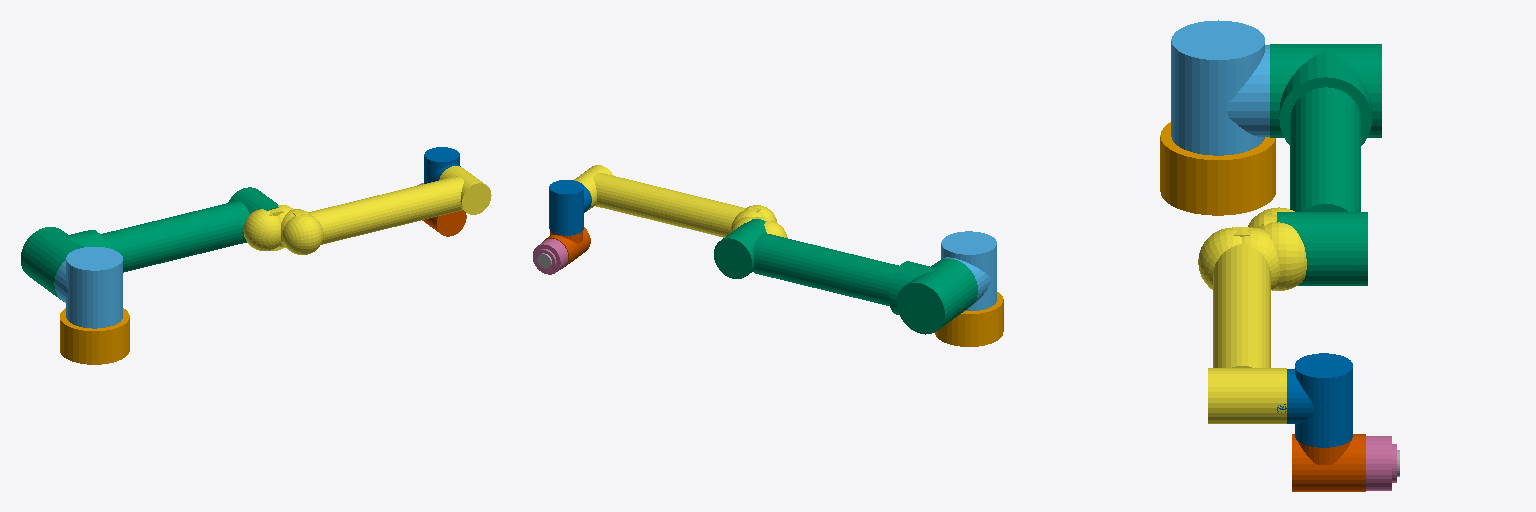
The robot description file, URDF, robot "UR10e(1)":
<?xml version="1.0"?>
<robot name="UR10e(1)" xmlns:xacro="http://ros.org/wiki/xacro">
  <link name="base_link">
    <visual>
      <origin xyz="0 0 0.05" rpy="-3.141592 0 0"/>
      <geometry>
        <cylinder radius="0.095" length="0.1"/>
      </geometry>
    </visual>
    <collision>
      <origin xyz="0 0 0.05" rpy="-3.141592 0 0"/>
      <geometry>
        <cylinder radius="0.095" length="0.1"/>
      </geometry>
    </collision>
  </link>
  <joint name="shoulder_pan_joint" type="revolute">
    <parent link="base_link"/>
    <child link="shoulder_link"/>
    <axis xyz="0 0 1"/>
    <limit effort="330" lower="-6.28319" upper="6.28319" velocity="3.14"/>
    <origin xyz="0 0 0.181" rpy="0 0 0"/>
  </joint>
  <link name="shoulder_link">
    <visual>
      <origin xyz="0 0 0" rpy="-3.141592 0 0"/>
      <geometry>
        <cylinder radius="0.077" length="0.183"/>
      </geometry>
    </visual>
    <collision>
      <origin xyz="0 0 0" rpy="-3.141592 0 0"/>
      <geometry>
        <cylinder radius="0.077" length="0.183"/>
      </geometry>
    </collision>
    <visual>
      <origin xyz="0 0.05 0" rpy="1.570797 0 0"/>
      <geometry>
        <cylinder radius="0.076" length="0.093"/>
      </geometry>
    </visual>
    <collision>
      <origin xyz="0 0.05 0" rpy="1.570797 0 0"/>
      <geometry>
        <cylinder radius="0.076" length="0.093"/>
      </geometry>
    </collision>
  </link>
  <joint name="shoulder_lift_joint" type="revolute">
    <parent link="shoulder_link"/>
    <child link="upper_arm_link"/>
    <axis xyz="0 1 0"/>
    <limit effort="330" lower="-6.28319" upper="6.28319" velocity="3.14"/>
    <origin xyz="0 0.176 0" rpy="0 1.570796 0"/>
  </joint>
  <link name="upper_arm_link">
    <visual>
      <origin xyz="0 0 0.33" rpy="-3.141592 0 0"/>
      <geometry>
        <cylinder radius="0.058" length="0.463"/>
      </geometry>
    </visual>
    <collision>
      <origin xyz="0 0 0.33" rpy="-3.141592 0 0"/>
      <geometry>
        <cylinder radius="0.058" length="0.463"/>
      </geometry>
    </collision>
    <visual>
      <origin xyz="0 0 0.06" rpy="-3.141592 0 0"/>
      <geometry>
        <cylinder radius="0.076" length="0.1"/>
      </geometry>
    </visual>
    <collision>
      <origin xyz="0 0 0.06" rpy="-3.141592 0 0"/>
      <geometry>
        <cylinder radius="0.076" length="0.1"/>
      </geometry>
    </collision>
    <visual>
      <origin xyz="0 0 0" rpy="-1.570796 0 0"/>
      <geometry>
        <cylinder radius="0.077" length="0.183"/>
      </geometry>
    </visual>
    <collision>
      <origin xyz="0 0 0" rpy="-1.570796 0 0"/>
      <geometry>
        <cylinder radius="0.077" length="0.183"/>
      </geometry>
    </collision>
    <visual>
      <origin xyz="0 -0.005 0.612" rpy="-1.570796 0 0"/>
      <geometry>
        <cylinder radius="0.061" length="0.149"/>
      </geometry>
    </visual>
    <collision>
      <origin xyz="0 -0.005 0.612" rpy="-1.570796 0 0"/>
      <geometry>
        <cylinder radius="0.061" length="0.149"/>
      </geometry>
    </collision>
  </link>
  <joint name="elbow_joint" type="revolute">
    <parent link="upper_arm_link"/>
    <child link="forearm_link"/>
    <axis xyz="0 1 0"/>
    <limit effort="150" lower="-3.14159" upper="3.14159" velocity="3.14"/>
    <origin xyz="0 -0.137 0.613" rpy="0 0 0"/>
  </joint>
  <link name="forearm_link">
    <visual>
      <origin xyz="0 0 0.307" rpy="-3.141592 0 0"/>
      <geometry>
        <cylinder radius="0.047" length="0.49"/>
      </geometry>
    </visual>
    <collision>
      <origin xyz="0 0 0.307" rpy="-3.141592 0 0"/>
      <geometry>
        <cylinder radius="0.047" length="0.49"/>
      </geometry>
    </collision>
    <visual>
      <origin xyz="0 0.009 0.57" rpy="-1.570796 0 0"/>
      <geometry>
        <cylinder radius="0.046" length="0.129"/>
      </geometry>
    </visual>
    <collision>
      <origin xyz="0 0.009 0.57" rpy="-1.570796 0 0"/>
      <geometry>
        <cylinder radius="0.046" length="0.129"/>
      </geometry>
    </collision>
    <visual>
      <origin xyz="0 0.06 0" rpy="-1.570796 0 0"/>
      <geometry>
        <cylinder radius="0.058" length="0.05"/>
      </geometry>
    </visual>
    <collision>
      <origin xyz="0 0.06 0" rpy="-1.570796 0 0"/>
      <geometry>
        <cylinder radius="0.058" length="0.05"/>
      </geometry>
    </collision>
    <visual>
      <origin xyz="0 0.06 -0.025" rpy="-1.570796 0 0"/>
      <geometry>
        <sphere radius="0.058"/>
      </geometry>
    </visual>
    <collision>
      <origin xyz="0 0.06 -0.025" rpy="-1.570796 0 0"/>
      <geometry>
        <sphere radius="0.058"/>
      </geometry>
    </collision>
    <visual>
      <origin xyz="0 0.06 0.025" rpy="-1.570796 0 0"/>
      <geometry>
        <sphere radius="0.058"/>
      </geometry>
    </visual>
    <collision>
      <origin xyz="0 0.06 0.025" rpy="-1.570796 0 0"/>
      <geometry>
        <sphere radius="0.058"/>
      </geometry>
    </collision>
    <visual>
      <origin xyz="0 0 0.05" rpy="0 0 0"/>
      <geometry>
        <cylinder radius="0.057" length="0.03"/>
      </geometry>
    </visual>
    <collision>
      <origin xyz="0 0 0.05" rpy="0 0 0"/>
      <geometry>
        <cylinder radius="0.057" length="0.03"/>
      </geometry>
    </collision>
    <visual>
      <origin xyz="0 0.015 0.05" rpy="0 0 0"/>
      <geometry>
        <sphere radius="0.057"/>
      </geometry>
    </visual>
    <collision>
      <origin xyz="0 0.015 0.05" rpy="0 0 0"/>
      <geometry>
        <sphere radius="0.057"/>
      </geometry>
    </collision>
    <visual>
      <origin xyz="0 -0.015 0.05" rpy="0 0 0"/>
      <geometry>
        <sphere radius="0.057"/>
      </geometry>
    </visual>
    <collision>
      <origin xyz="0 -0.015 0.05" rpy="0 0 0"/>
      <geometry>
        <sphere radius="0.057"/>
      </geometry>
    </collision>
  </link>
  <joint name="wrist_1_joint" type="revolute">
    <parent link="forearm_link"/>
    <child link="wrist_1_link"/>
    <axis xyz="0 1 0"/>
    <limit effort="54" lower="-6.28319" upper="6.28319" velocity="6.28"/>
    <origin xyz="0 0 0.571" rpy="0 1.570796 0"/>
  </joint>
  <link name="wrist_1_link">
    <visual>
      <origin xyz="0 0.095 0" rpy="-1.570796 0 0"/>
      <geometry>
        <cylinder radius="0.045" length="0.075"/>
      </geometry>
    </visual>
    <collision>
      <origin xyz="0 0.095 0" rpy="-1.570796 0 0"/>
      <geometry>
        <cylinder radius="0.045" length="0.075"/>
      </geometry>
    </collision>
    <visual>
      <origin xyz="0 0.134 0.007" rpy="-3.141592 0 0"/>
      <geometry>
        <cylinder radius="0.048" length="0.126"/>
      </geometry>
    </visual>
    <collision>
      <origin xyz="0 0.134 0.007" rpy="-3.141592 0 0"/>
      <geometry>
        <cylinder radius="0.048" length="0.126"/>
      </geometry>
    </collision>
  </link>
  <joint name="wrist_2_joint" type="revolute">
    <parent link="wrist_1_link"/>
    <child link="wrist_2_link"/>
    <axis xyz="0 0 1"/>
    <limit effort="54" lower="-6.28319" upper="6.28319" velocity="6.28"/>
    <origin xyz="0 0.135 0" rpy="0 0 0"/>
  </joint>
  <link name="wrist_2_link">
    <visual>
      <origin xyz="0 0.007 0.1195" rpy="-1.570796 0 0"/>
      <geometry>
        <cylinder radius="0.047" length="0.12"/>
      </geometry>
    </visual>
    <collision>
      <origin xyz="0 0.007 0.1195" rpy="-1.570796 0 0"/>
      <geometry>
        <cylinder radius="0.047" length="0.12"/>
      </geometry>
    </collision>
    <visual>
      <origin xyz="0 0 0.0805" rpy="-3.141592 0 0"/>
      <geometry>
        <cylinder radius="0.046" length="0.043"/>
      </geometry>
    </visual>
    <collision>
      <origin xyz="0 0 0.0805" rpy="-3.141592 0 0"/>
      <geometry>
        <cylinder radius="0.046" length="0.043"/>
      </geometry>
    </collision>
  </link>
  <joint name="wrist_3_joint" type="revolute">
    <parent link="wrist_2_link"/>
    <child link="wrist_3_link"/>
    <axis xyz="0 1 0"/>
    <limit effort="54" lower="-6.28319" upper="6.28319" velocity="6.28"/>
    <origin xyz="0 0 0.12" rpy="0 0 0"/>
  </joint>
  <link name="wrist_3_link">
    <visual>
      <origin xyz="0 0.086 0" rpy="-1.570796 0 0"/>
      <geometry>
        <cylinder radius="0.045" length="0.048"/>
      </geometry>
    </visual>
    <collision>
      <origin xyz="0 0.086 0" rpy="-1.570796 0 0"/>
      <geometry>
        <cylinder radius="0.045" length="0.048"/>
      </geometry>
    </collision>
    <visual>
      <origin xyz="0 0.109 0" rpy="-1.570796 0 0"/>
      <geometry>
        <cylinder radius="0.032" length="0.018"/>
      </geometry>
    </visual>
    <collision>
      <origin xyz="0 0.109 0" rpy="-1.570796 0 0"/>
      <geometry>
        <cylinder radius="0.032" length="0.018"/>
      </geometry>
    </collision>
  </link>
  <link name="vacuum gripper">
    <visual>
      <origin xyz="0 0.01 0" rpy="1.5708 0 0"/>
      <geometry>
        <cylinder radius="0.022" length="0.006"/>
      </geometry>
    </visual>
    <collision>
      <origin xyz="0 0.01 0" rpy="1.5708 0 0"/>
      <geometry>
        <cylinder radius="0.022" length="0.006"/>
      </geometry>
    </collision>
  </link>
  <joint name="wrist_3_link_vacuum gripper_joint" type="fixed">
    <parent link="wrist_3_link"/>
    <child link="vacuum gripper"/>
    <origin xyz="0 0.11 0" rpy="0 0 0"/>
  </joint>
</robot>

--- Facts derived from the render (not from the file) ---
The picture shows the robot from 3 angles, left to right: view 1: azimuth 30°, elevation 25°; view 2: azimuth 150°, elevation 25°; view 3: azimuth 270°, elevation 25°; orthographic projection.
Model UR10e(1) with 8 links and 7 joints (6 revolute, 1 fixed), rooted at base_link, posed all joints at 0.
Links seen in each view (by area): view 1: forearm_link, upper_arm_link, shoulder_link, base_link, wrist_1_link, wrist_2_link; view 2: upper_arm_link, forearm_link, shoulder_link, base_link, wrist_1_link, wrist_3_link, wrist_2_link; view 3: upper_arm_link, forearm_link, shoulder_link, base_link, wrist_1_link, wrist_2_link, wrist_3_link.
Link boxes in pixels (x1,y1,x2,y2): forearm_link: (244, 166, 491, 254); upper_arm_link: (21, 187, 278, 301); shoulder_link: (55, 247, 122, 328); base_link: (60, 308, 129, 364); wrist_1_link: (424, 147, 460, 183); wrist_2_link: (422, 210, 466, 236); upper_arm_link: (714, 219, 977, 334); forearm_link: (574, 165, 787, 237); shoulder_link: (941, 231, 996, 310); base_link: (935, 292, 1003, 346); wrist_1_link: (549, 180, 591, 235); wrist_3_link: (533, 239, 567, 274); wrist_2_link: (543, 227, 590, 268); upper_arm_link: (1270, 44, 1381, 285); forearm_link: (1198, 207, 1306, 423); shoulder_link: (1171, 20, 1269, 155); base_link: (1160, 122, 1275, 215); wrist_1_link: (1277, 353, 1352, 447); wrist_2_link: (1292, 434, 1365, 491); wrist_3_link: (1366, 436, 1396, 490).
Size in the robot's own frame: 1.33 by 0.392 by 0.2725 metres.
Geometry: primitives only (box / cylinder / sphere), no mesh files.
